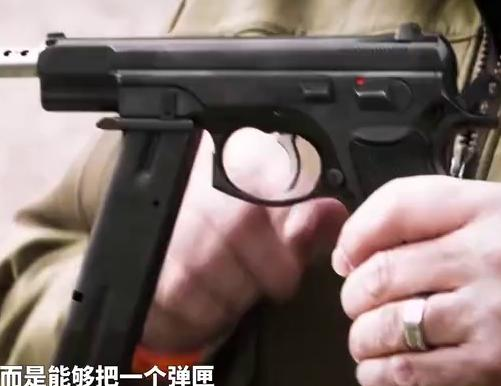gun: (1, 1, 501, 386)
